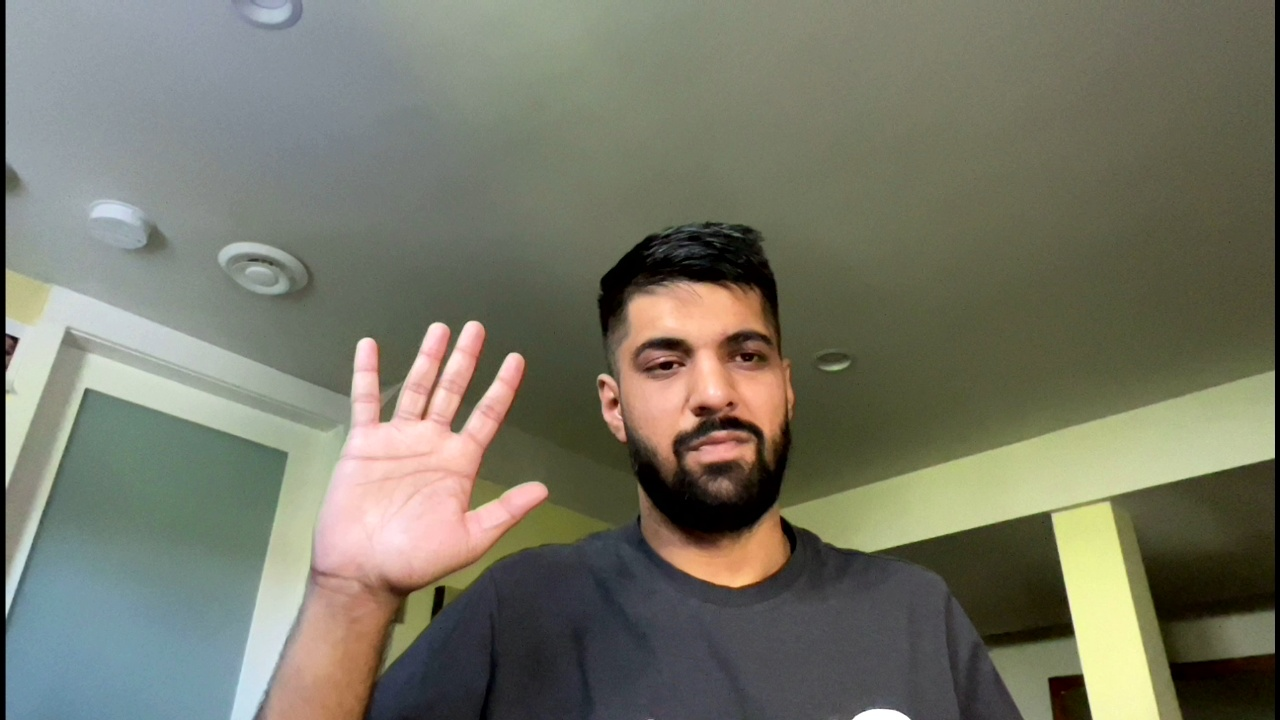Hey!: (305, 317, 558, 598)
